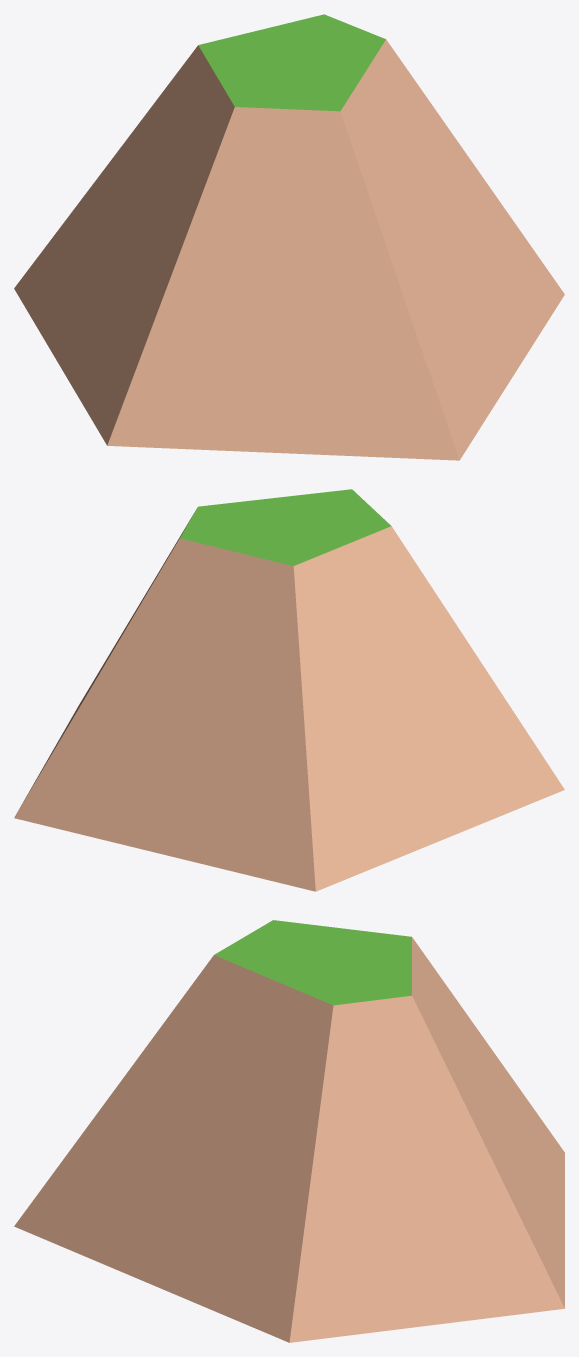
File: rock_5.fbx
The picture shows the model from 3 angles, top to bottom: view 1: azimuth 30°, elevation 25°; view 2: azimuth 150°, elevation 25°; view 3: azimuth 270°, elevation 25°; orthographic projection. The views are drawn at different scales.
Visible parts, largest first — view 1: rock_5; view 2: rock_5; view 3: rock_5.
Part boxes in pixels (x1,y1,x2,y2): rock_5: [14, 14, 564, 460]; rock_5: [14, 489, 564, 891]; rock_5: [14, 920, 564, 1342].
Bounding box in the file's own units: 0.3608 × 0.1912 × 0.3608.
Materials: 1 (1 with a texture image).
